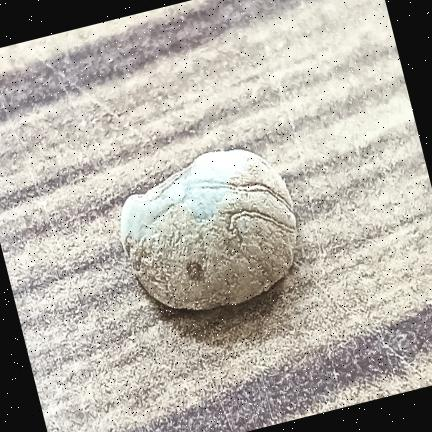cut: (120, 149, 296, 309)
